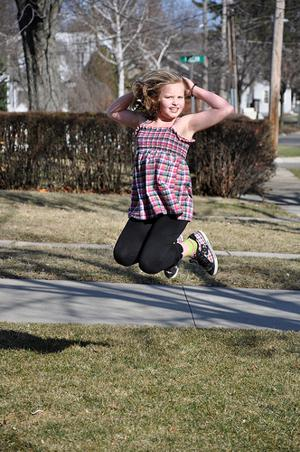person: (115, 72, 234, 284)
